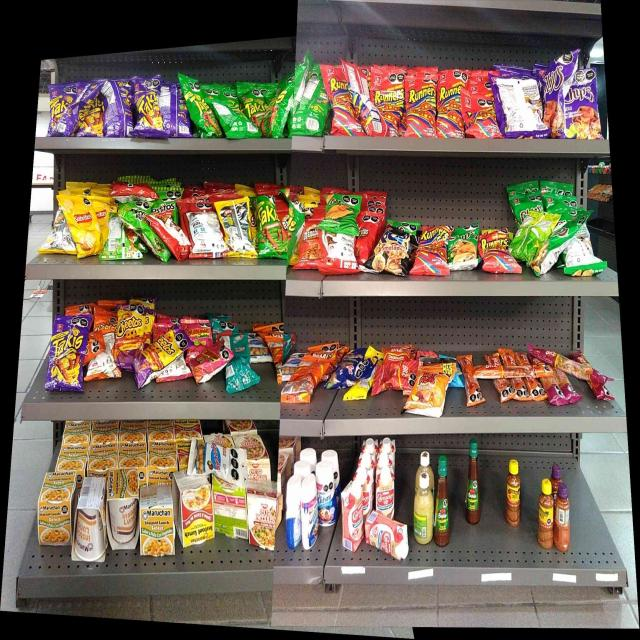bitzEnchilado90: (374, 362, 415, 388)
bitzEnchilado95: (496, 380, 540, 401), (477, 366, 549, 377), (459, 356, 474, 404), (487, 351, 527, 364)
bitzHabanero: (544, 379, 582, 404), (584, 366, 613, 386), (528, 345, 557, 362)
bokadosCacahuates: (328, 362, 367, 387)
botaneraChilito: (538, 478, 552, 548), (506, 461, 521, 525)
cheetosFlaminHot: (118, 304, 143, 346), (159, 332, 188, 366), (130, 348, 158, 382)
cheetosOriginal: (94, 311, 115, 331)
chipsFuego: (567, 71, 597, 139), (542, 67, 566, 138)
chipsJalapeno: (448, 232, 477, 268), (511, 196, 542, 213)
churrumais: (189, 350, 222, 381), (189, 319, 212, 348)
delPrimoSalsa: (413, 472, 432, 542)
doritosNacho: (112, 181, 156, 200)
hotNutsOriginal: (416, 358, 443, 417)
leoCacahuates: (190, 439, 247, 486), (249, 332, 266, 362)
leoMix: (308, 343, 338, 360)
maruchanPollo: (38, 471, 72, 545), (106, 468, 137, 547), (139, 484, 173, 556)
maruchanRes: (175, 488, 213, 538)
nestleCarnation: (365, 514, 407, 559), (341, 481, 362, 547), (376, 470, 393, 510)
nestleLechera: (302, 478, 318, 547), (318, 463, 336, 524), (286, 476, 300, 547)
nissinCamaron: (215, 481, 246, 538)
nissinRes: (248, 479, 274, 551)
popKarameladas: (371, 232, 407, 275)
productoAtras: (73, 477, 104, 562), (498, 78, 540, 139), (221, 202, 251, 258), (296, 74, 323, 136), (105, 83, 134, 135), (187, 214, 220, 259), (322, 233, 356, 272), (161, 82, 184, 139), (108, 213, 137, 258), (289, 364, 320, 404), (226, 333, 248, 388), (568, 234, 596, 276), (513, 214, 540, 256), (162, 218, 186, 258), (221, 102, 245, 139), (47, 221, 70, 253), (346, 65, 367, 93), (87, 358, 114, 378)
rancheritos: (301, 222, 322, 268), (357, 215, 370, 260)
rufflesQueso: (325, 195, 355, 230)
runners: (371, 68, 404, 136), (405, 77, 435, 137), (462, 90, 497, 138), (436, 73, 461, 138), (416, 226, 447, 276), (324, 65, 345, 134), (478, 233, 511, 272), (346, 94, 367, 136)
sabritasOriginal: (71, 196, 91, 254), (92, 200, 107, 252)
salsaBufalo: (436, 463, 450, 545), (466, 440, 478, 523)
tajinDulce: (554, 482, 570, 553)
takisFuego: (51, 318, 83, 389), (135, 91, 159, 137), (79, 101, 104, 137), (49, 84, 67, 122)
takisOriginal: (252, 197, 281, 258), (186, 83, 218, 137), (246, 90, 267, 138), (268, 90, 286, 136), (288, 204, 300, 245)
tostitos: (151, 201, 176, 217)
